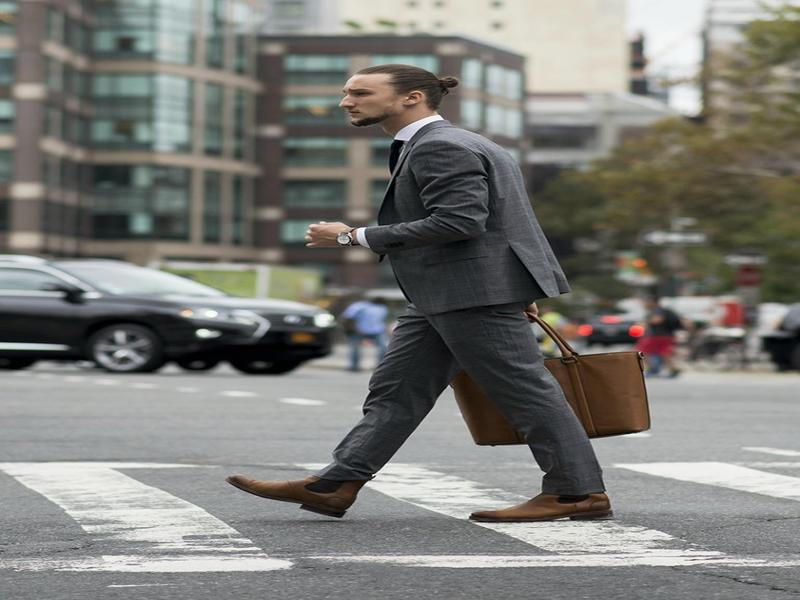shoes_men_chelsea_chelseaboots_leather_none_none_brown_none: (221, 466, 362, 524), (459, 492, 622, 524)
